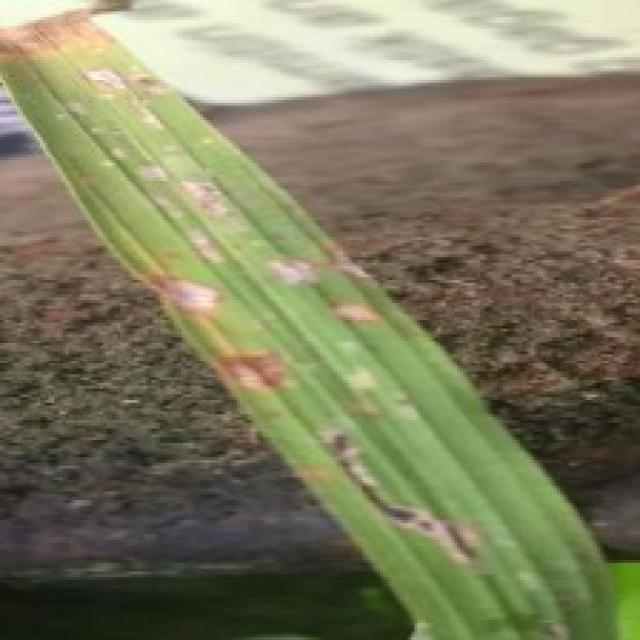Unhealthy: (315, 426, 485, 571), (140, 251, 287, 393), (0, 0, 136, 68), (79, 68, 175, 134), (266, 236, 377, 291), (185, 223, 225, 268), (325, 298, 384, 326), (65, 168, 111, 198), (546, 569, 577, 611), (390, 393, 422, 424), (152, 191, 181, 225), (345, 365, 381, 390), (57, 97, 90, 121), (134, 163, 172, 183), (572, 547, 602, 569), (102, 146, 127, 167), (547, 623, 573, 640)
